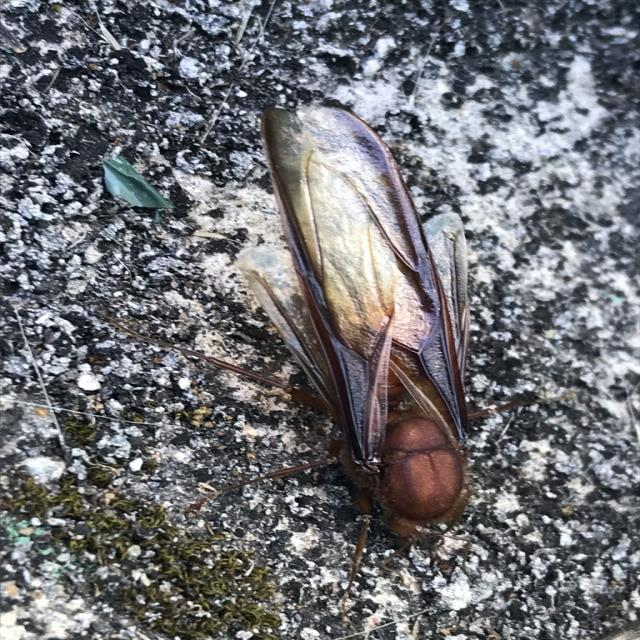Alive-Male-Alate: (107, 102, 543, 620)
